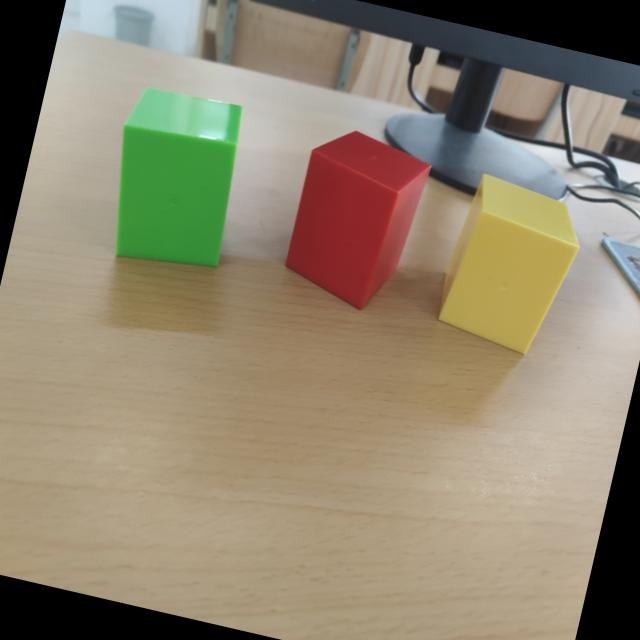green: (114, 88, 241, 269)
red: (283, 132, 430, 310)
yellow: (437, 177, 578, 356)
